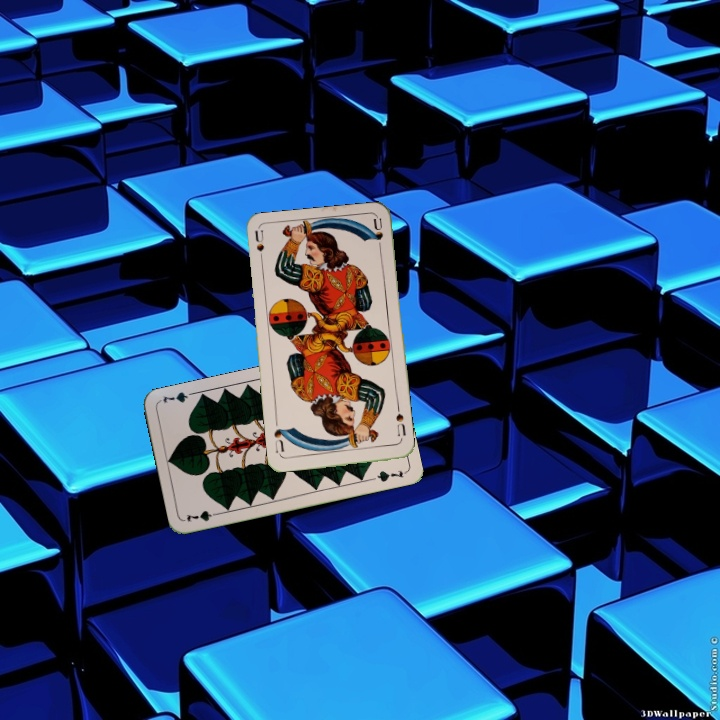G7: (183, 507, 223, 525)
SU: (251, 227, 266, 268), (392, 409, 408, 439)
